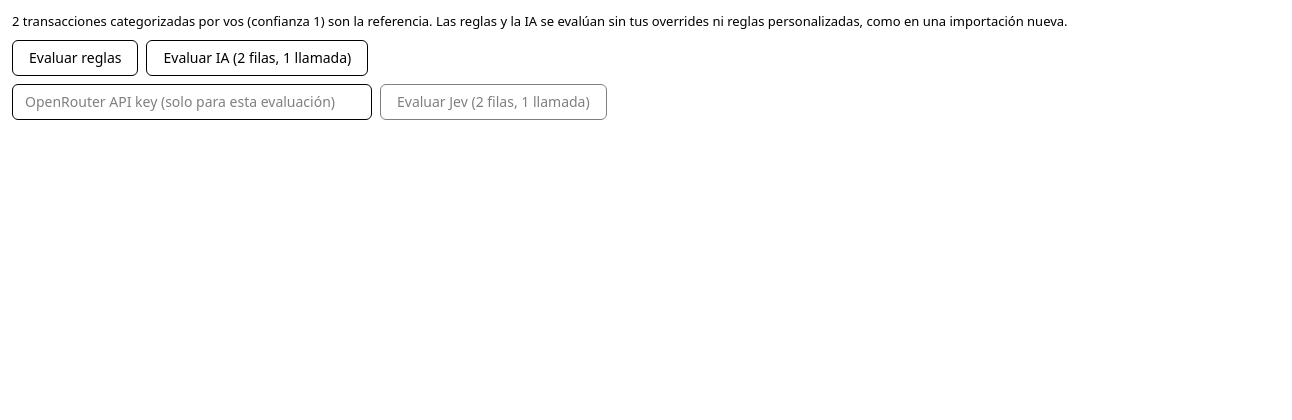
Scenario: CategorizerEval — Claude run (review of #224) › scores only the rows the model answered and marks the run partial
Click the button "Evaluar reglas": click(75, 58) [12,40,138,76]
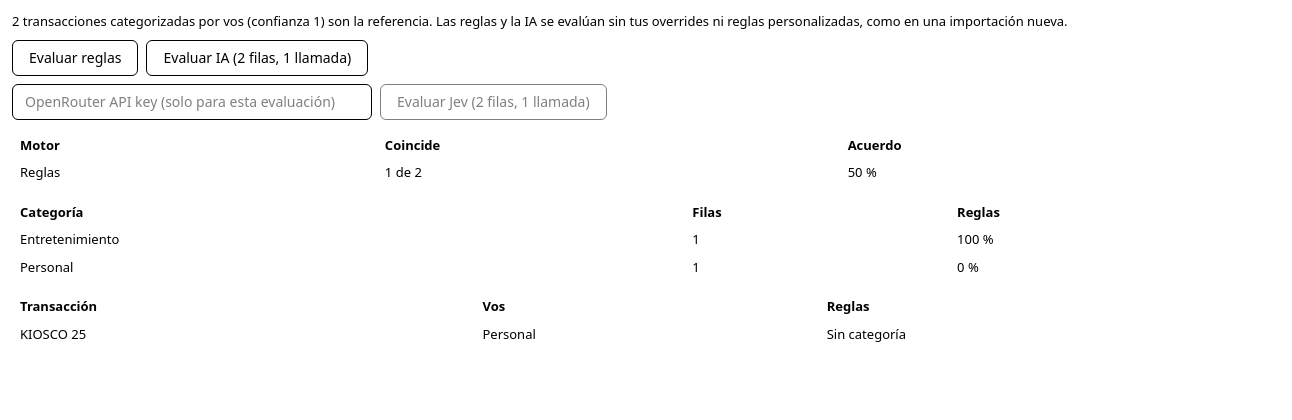
Click the button "Evaluar IA (2 filas, 1 llamada)": click(257, 58) [146,40,368,76]
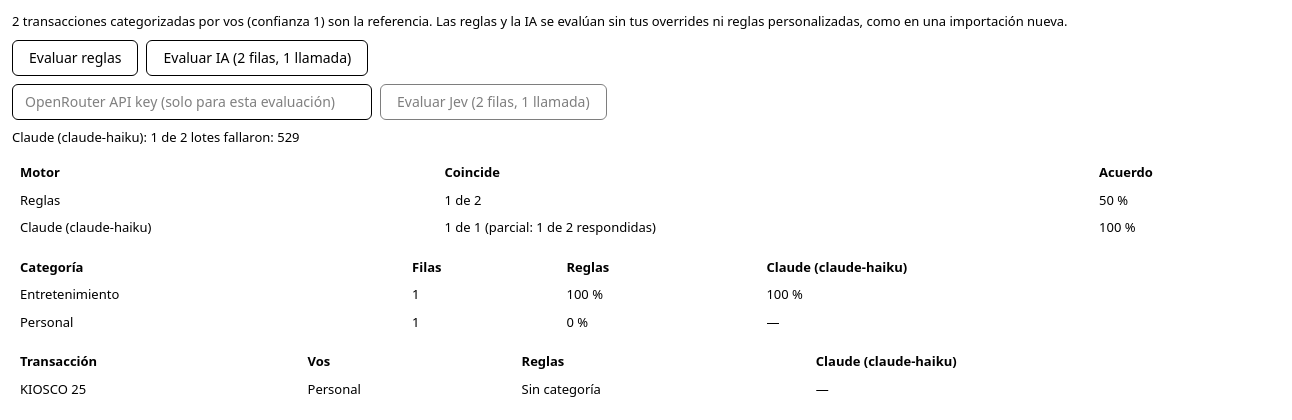
Now the row with test id "eval-ai" shows "1 de 1", box [12,214,1291,242]
Now the row with test id "eval-ai" shows "parcial", box [482,218,656,236]
Now the row "KIOSCO 25 Personal Sin categoría —" is shown, box [12,376,1291,403]
